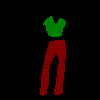camicia: (42, 15, 66, 37)
pantaloni: (40, 38, 66, 96)
